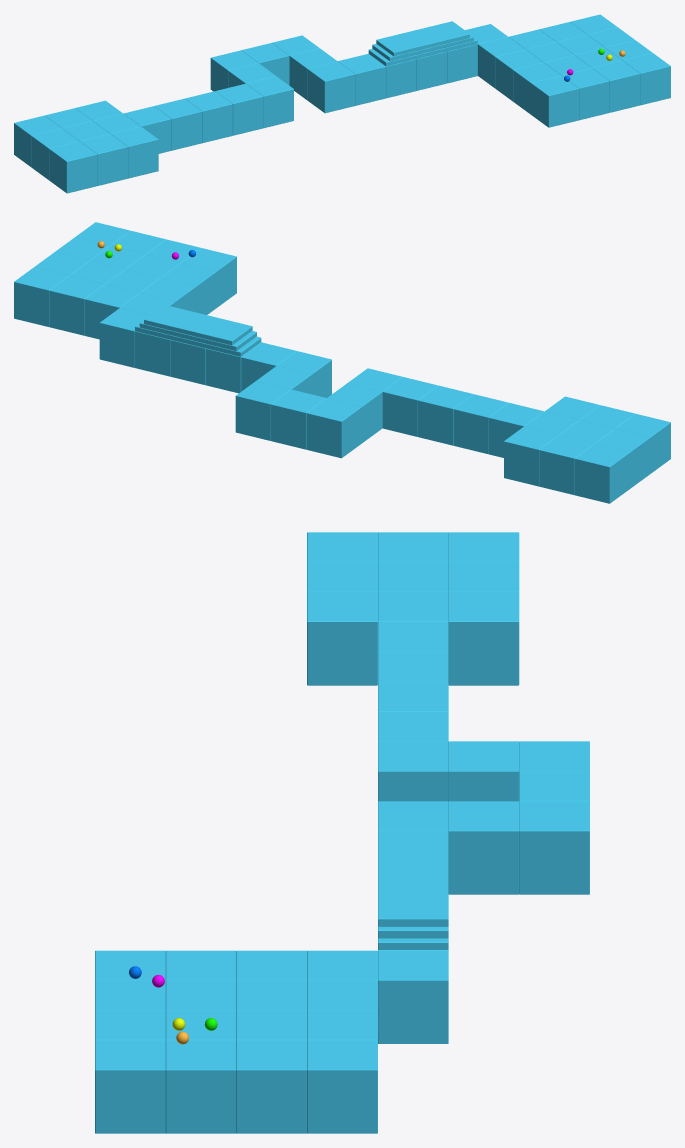
File: TutMap.fbx
3 renders of one model, top to bottom at view 1: azimuth 30°, elevation 25°; view 2: azimuth 150°, elevation 25°; view 3: azimuth 270°, elevation 25°, orthographic. The views are drawn at different scales.
Parts seen in each view (by area): view 1: TutMap; view 2: TutMap; view 3: TutMap.
Boxes of the visible parts, bbox=[...] form: TutMap: bbox=[14, 14, 670, 193]; TutMap: bbox=[14, 222, 670, 503]; TutMap: bbox=[95, 532, 589, 1133].
Bounding box in the file's own units: 3600 × 275 × 1400.
